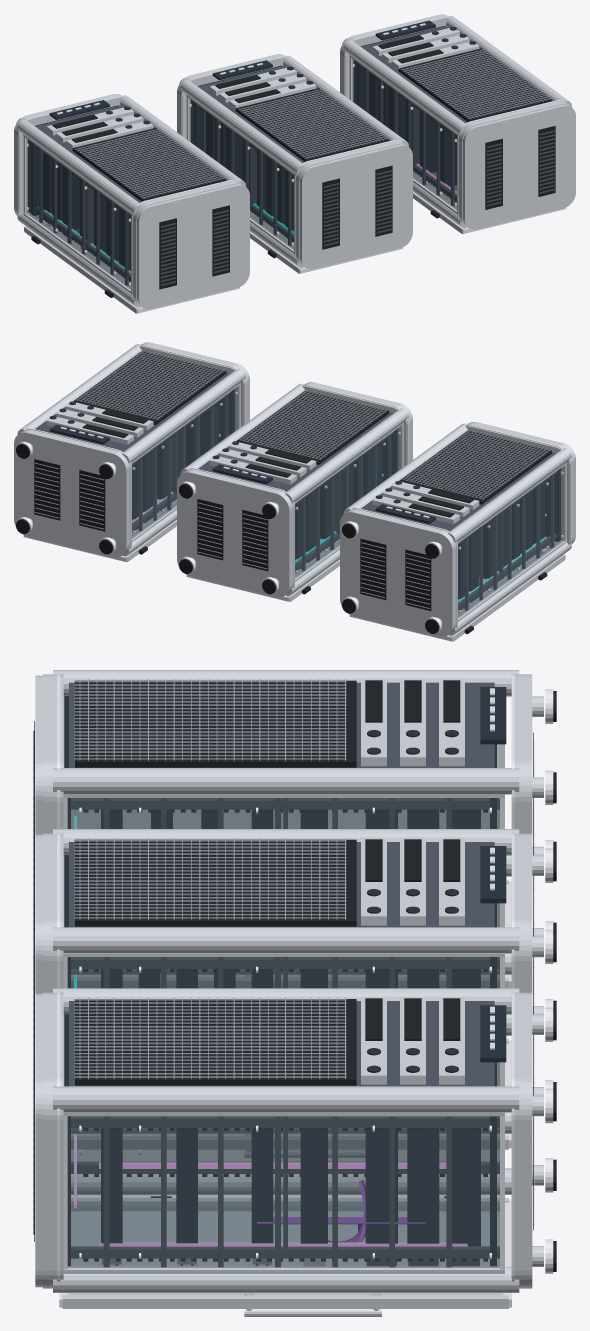
File: Rack_Server_3_Semester_Pintu.glb
3 renders of one model, top to bottom at view 1: azimuth 30°, elevation 25°; view 2: azimuth 150°, elevation 25°; view 3: azimuth 270°, elevation 25°, orthographic. The views are drawn at different scales.
Parts seen in each view (by area): view 1: Rack_Server_1_Biru/silver, Rack_Server_2_Hijau/silver, Rack_Server_3_Ungu/silver, Rack_Server_1_Biru/vent, Rack_Server_2_Hijau/vent, Rack_Server_3_Ungu/vent, Rack_Server_1_Biru/rear_glass, Rack_Server_3_Ungu/rear_glass, Rack_Server_2_Hijau/rear_glass, Rack_Server_1_Biru/dark, Rack_Server_1_Biru/black, Rack_Server_3_Ungu/server (+10 smaller); view 2: Rack_Server_1_Biru/silver, Rack_Server_3_Ungu/silver, Rack_Server_2_Hijau/silver, Rack_Server_1_Biru/vent, Rack_Server_3_Ungu/vent, Rack_Server_2_Hijau/vent, Rack_Server_1_Biru/rear_glass, Rack_Server_2_Hijau/rear_glass, Rack_Server_3_Ungu/rear_glass, Rack_Server_1_Biru/black, Rack_Server_2_Hijau/server, Rack_Server_3_Ungu/server (+13 smaller); view 3: Rack_Server_3_Ungu/rear_glass, Rack_Server_3_Ungu/silver, Rack_Server_2_Hijau/silver, Rack_Server_1_Biru/silver, Rack_Server_3_Ungu/dark, Rack_Server_3_Ungu/black, Rack_Server_3_Ungu/vent, Rack_Server_2_Hijau/vent, Rack_Server_1_Biru/vent, Rack_Server_1_Biru/server, Rack_Server_3_Ungu/server, Rack_Server_2_Hijau/server (+17 smaller).
Part boxes in pixels (left/top/right/bottom): Rack_Server_1_Biru/silver: left=14, top=94, right=249, bottom=309; Rack_Server_2_Hijau/silver: left=177, top=54, right=412, bottom=269; Rack_Server_3_Ungu/silver: left=340, top=14, right=575, bottom=229; Rack_Server_1_Biru/vent: left=37, top=114, right=229, bottom=289; Rack_Server_2_Hijau/vent: left=200, top=75, right=392, bottom=249; Rack_Server_3_Ungu/vent: left=363, top=35, right=555, bottom=209; Rack_Server_1_Biru/rear_glass: left=26, top=138, right=131, bottom=289; Rack_Server_3_Ungu/rear_glass: left=352, top=59, right=457, bottom=210; Rack_Server_2_Hijau/rear_glass: left=189, top=99, right=294, bottom=249; Rack_Server_1_Biru/dark: left=35, top=104, right=228, bottom=286; Rack_Server_1_Biru/black: left=28, top=100, right=150, bottom=270; Rack_Server_3_Ungu/server: left=401, top=49, right=550, bottom=190; Rack_Server_1_Biru/silver: left=340, top=421, right=575, bottom=637; Rack_Server_3_Ungu/silver: left=14, top=342, right=249, bottom=557; Rack_Server_2_Hijau/silver: left=177, top=382, right=412, bottom=597; Rack_Server_1_Biru/vent: left=360, top=430, right=551, bottom=610; Rack_Server_3_Ungu/vent: left=34, top=350, right=226, bottom=531; Rack_Server_2_Hijau/vent: left=197, top=390, right=389, bottom=571; Rack_Server_1_Biru/rear_glass: left=458, top=466, right=564, bottom=618; Rack_Server_2_Hijau/rear_glass: left=294, top=426, right=401, bottom=578; Rack_Server_3_Ungu/rear_glass: left=131, top=386, right=238, bottom=538; Rack_Server_1_Biru/black: left=375, top=468, right=560, bottom=600; Rack_Server_2_Hijau/server: left=238, top=390, right=387, bottom=459; Rack_Server_3_Ungu/server: left=75, top=350, right=224, bottom=420; Rack_Server_3_Ungu/rear_glass: left=67, top=1062, right=499, bottom=1267; Rack_Server_3_Ungu/silver: left=35, top=988, right=543, bottom=1292; Rack_Server_2_Hijau/silver: left=35, top=829, right=543, bottom=1133; Rack_Server_1_Biru/silver: left=35, top=670, right=543, bottom=974; Rack_Server_3_Ungu/dark: left=33, top=1001, right=499, bottom=1267; Rack_Server_3_Ungu/black: left=64, top=1005, right=506, bottom=1266; Rack_Server_3_Ungu/vent: left=34, top=998, right=533, bottom=1261; Rack_Server_2_Hijau/vent: left=34, top=839, right=533, bottom=1050; Rack_Server_1_Biru/vent: left=34, top=680, right=533, bottom=891; Rack_Server_1_Biru/server: left=74, top=679, right=346, bottom=761; Rack_Server_3_Ungu/server: left=74, top=997, right=346, bottom=1263; Rack_Server_2_Hijau/server: left=74, top=838, right=346, bottom=920.
Bounding box in the file's own units: 3.91 × 1.05 × 2.02.
